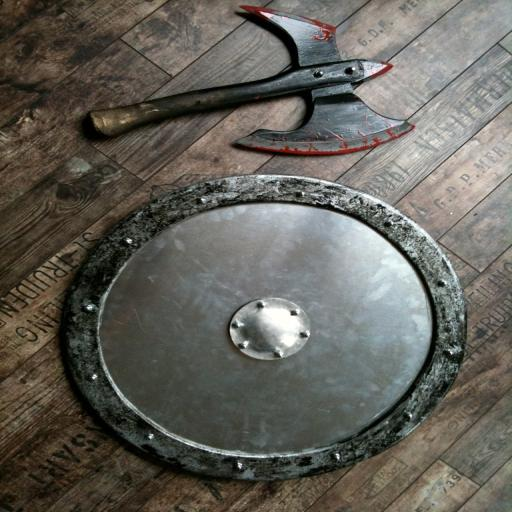Axe: (87, 4, 414, 155)
